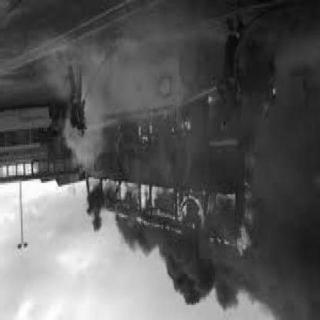Smoke: (270, 36, 310, 309)
